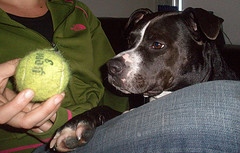tennis ball: (14, 45, 71, 102)
